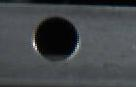holes: (30, 14, 81, 62)
